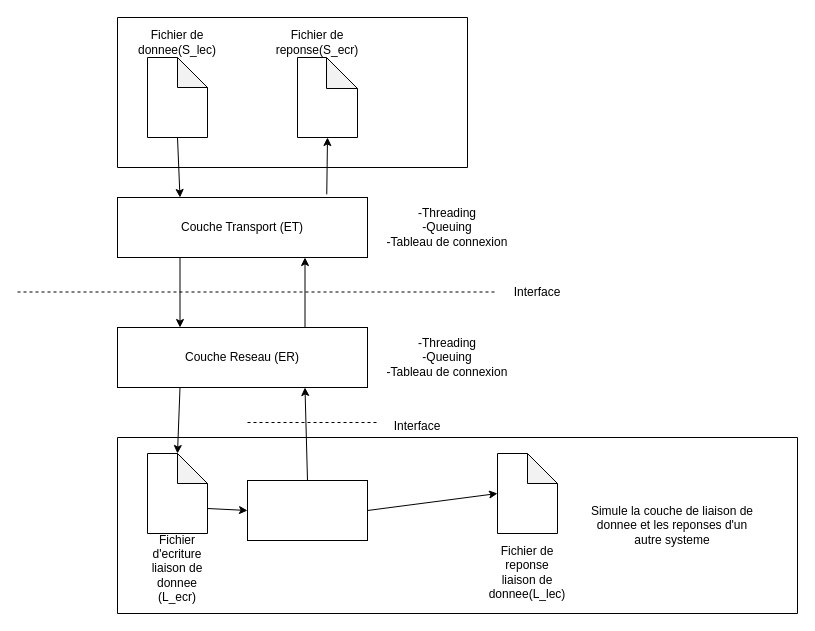
This 815x631 diagram has some shape labels left out. Here are the shapes that lost their labels. From the top down, the box of each, then its label:
(116, 16, 468, 168): Simule les couches applications
(246, 480, 368, 540): Programme de reponse selon L_ecr
